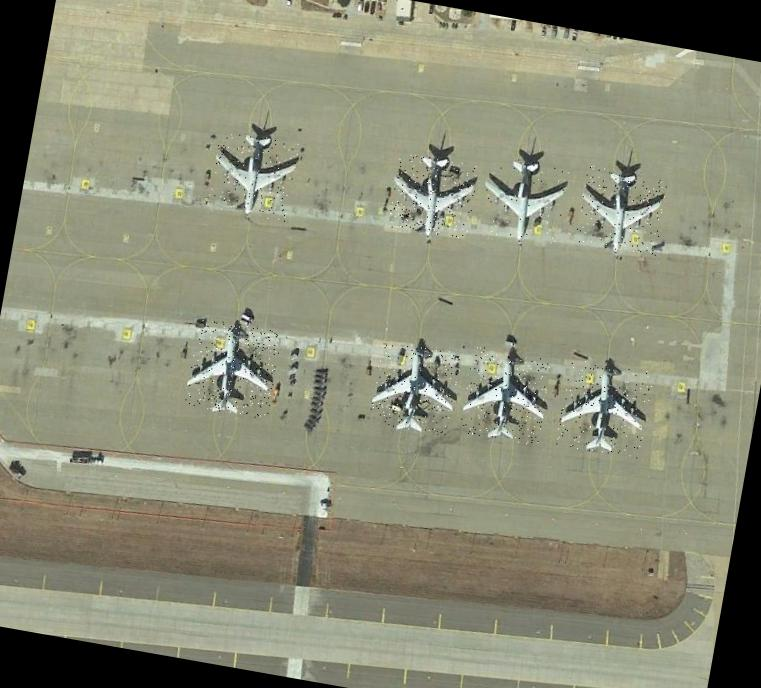A7: (554, 357, 653, 459), (184, 317, 282, 419), (458, 345, 552, 446), (366, 339, 461, 436), (206, 129, 301, 222), (574, 164, 668, 256), (478, 154, 570, 246), (386, 152, 479, 240)
